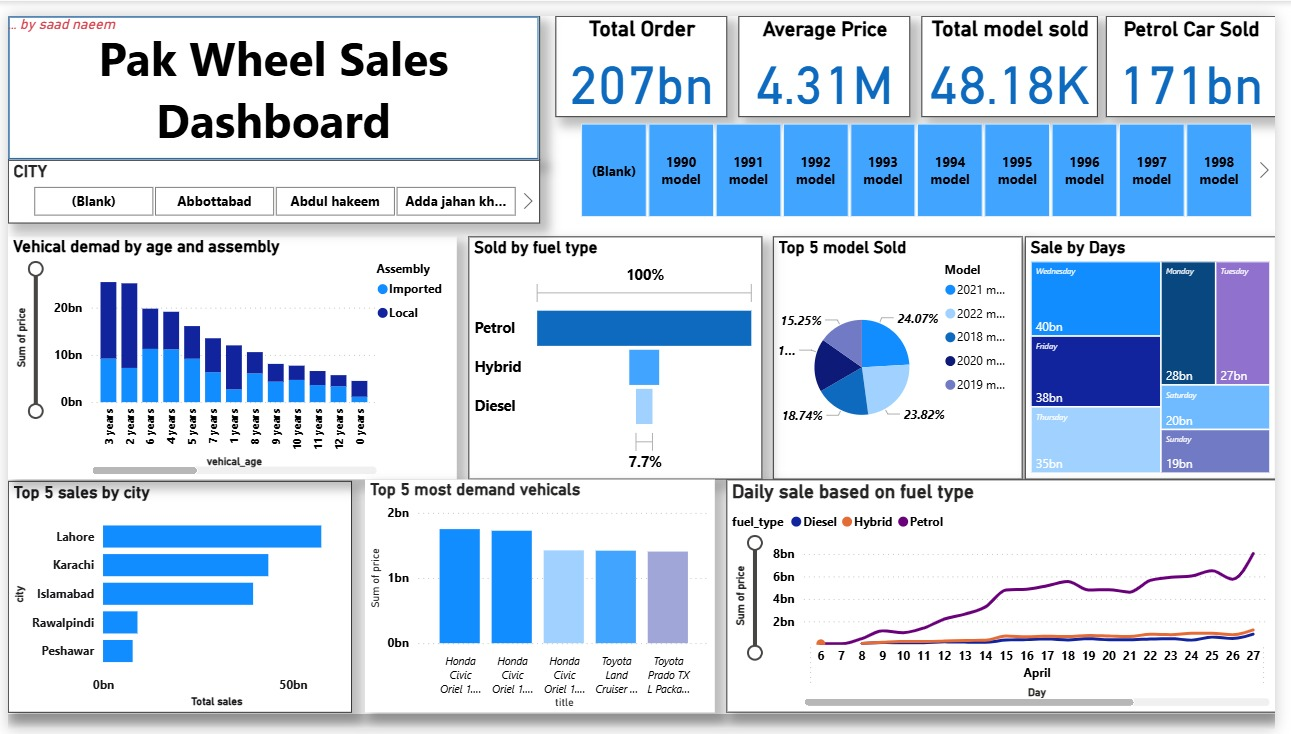

Layout of this report page (visuals, bound fields, positions):
{"tool":"powerbi","page":{"name":"Dashbaord","canvas":[1280,720],"ordinal":0},"visuals":[{"type":"clusteredBarChart","title":"Top 5 sales by city","fields":{"Category":["pakwheels_pakistan_automobile_d.city"],"Y":["pakwheels_pakistan_automobile_d.price"]},"box":[0,470,347.1,234.3],"z":0},{"type":"pieChart","title":"Top 5 model Sold","fields":{"Category":["pakwheels_pakistan_automobile_d.Model"],"Y":["pakwheels_pakistan_automobile_d.price"]},"box":[773.3,223.3,251.7,245],"z":1000},{"type":"columnChart","title":"Vehical demad by age and assembly","fields":{"Series":["pakwheels_pakistan_automobile_d.assembly"],"Y":["pakwheels_pakistan_automobile_d.price"],"Category":["pakwheels_pakistan_automobile_d.vehical_age"]},"box":[0,223.3,453.3,245],"z":2000},{"type":"card","title":"Total Order","fields":{"Values":["pakwheels_pakistan_automobile_d.price"]},"box":[552.7,0,173.6,101.8],"z":3000},{"type":"card","title":"Average Price","fields":{"Values":["pakwheels_pakistan_automobile_d.price"]},"box":[738.2,0,173.6,101.8],"z":4000},{"type":"card","title":"Total model sold","fields":{"Values":["pakwheels_pakistan_automobile_d.Model"]},"box":[922.7,0,178.2,101.8],"z":5000},{"type":"card","title":"Petrol Car Sold","fields":{"Values":["pakwheels_pakistan_automobile_d.price"]},"box":[1108.3,0,171.7,101.7],"z":6000},{"type":"funnel","title":"Sold by fuel type","fields":{"Category":["pakwheels_pakistan_automobile_d.fuel_type"],"Y":["pakwheels_pakistan_automobile_d.price"]},"box":[465,223.3,296.7,245],"z":7000},{"type":"clusteredColumnChart","title":"Top 5 most demand vehicals","fields":{"Category":["pakwheels_pakistan_automobile_d.title"],"Y":["pakwheels_pakistan_automobile_d.price"]},"box":[360,468.3,353.3,235],"z":8000},{"type":"treemap","title":"Sale by Days","fields":{"Values":["pakwheels_pakistan_automobile_d.price"],"Details":["pakwheels_pakistan_automobile_d.post_day_of_week"]},"box":[1026.7,223.3,253.3,245],"z":9000},{"type":"lineChart","title":"Daily sale based on fuel type","fields":{"Category":["pakwheels_pakistan_automobile_d.post_date.Variation.Date Hierarchy.Month","pakwheels_pakistan_automobile_d.post_date.Variation.Date Hierarchy.Day"],"Y":["pakwheels_pakistan_automobile_d.price"],"Series":["pakwheels_pakistan_automobile_d.fuel_type"]},"box":[725,468.3,555,235],"z":10000},{"type":"shape","box":[0,0,537.1,145.7],"z":11000},{"type":"slicer","title":"CITY","fields":{"Values":["pakwheels_pakistan_automobile_d.city"]},"box":[0,145.7,537.1,64.3],"z":12000},{"type":"slicer","fields":{"Values":["pakwheels_pakistan_automobile_d.Model"]},"box":[552.9,101.4,727.1,108.6],"z":13000},{"type":"shape","title":"...        by saad naeem","box":[0,0,1280.3,704.5],"z":14000}]}

Visuals, with their boxes in screenshot pixels (x1, y1, x2, y2), scaled from the page's 1280x720 canvas onto the 1291x734 screenshot:
"Top 5 sales by city" clusteredBarChart: (0, 479, 350, 718)
"Top 5 model Sold" pieChart: (780, 228, 1034, 477)
"Vehical demad by age and assembly" columnChart: (0, 228, 457, 477)
"Total Order" card: (557, 0, 733, 104)
"Average Price" card: (745, 0, 920, 104)
"Total model sold" card: (931, 0, 1110, 104)
"Petrol Car Sold" card: (1118, 0, 1290, 104)
"Sold by fuel type" funnel: (469, 228, 768, 477)
"Top 5 most demand vehicals" clusteredColumnChart: (363, 477, 719, 717)
"Sale by Days" treemap: (1036, 228, 1290, 477)
"Daily sale based on fuel type" lineChart: (731, 477, 1290, 717)
shape: (0, 0, 542, 149)
"CITY" slicer: (0, 149, 542, 214)
slicer - pakwheels_pakistan_automobile_d.Model: (558, 103, 1290, 214)
"...        by saad naeem" shape: (0, 0, 1290, 718)
